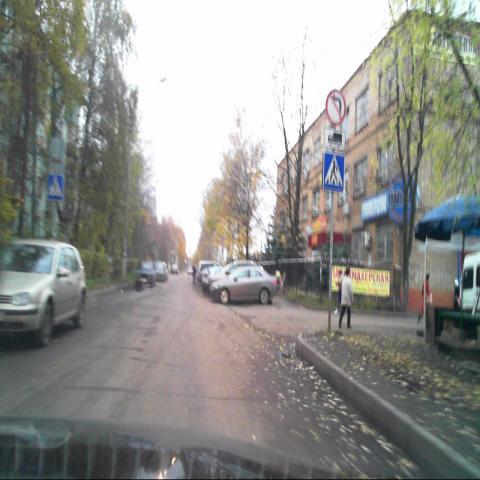3_18_2: (326, 89, 345, 126)
8_4_1: (323, 130, 345, 152)
